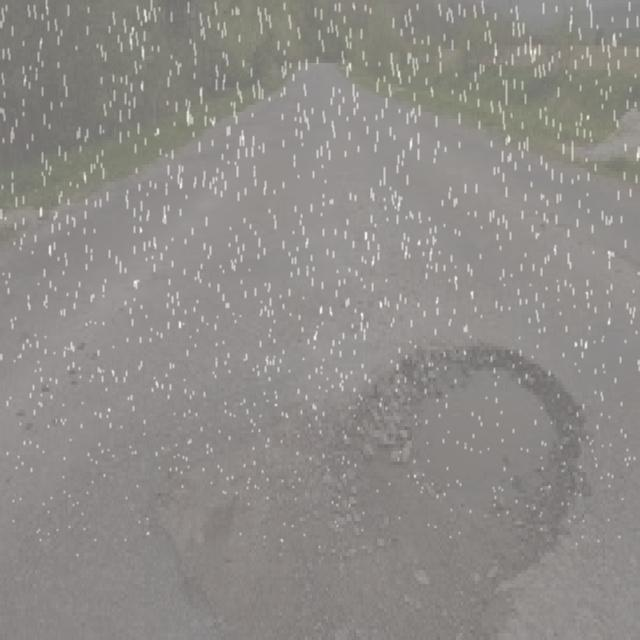Pothole: (331, 336, 596, 608), (133, 471, 299, 640)
